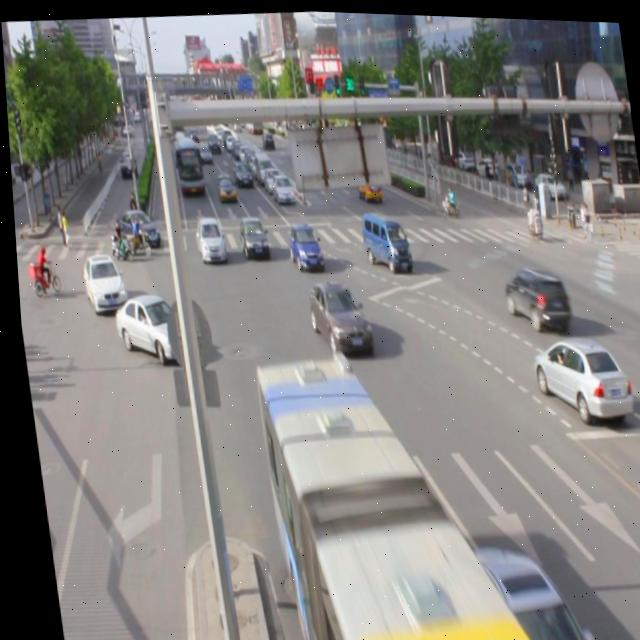car: (461, 532, 580, 640), (524, 324, 628, 416), (106, 287, 188, 362), (301, 274, 368, 353), (495, 256, 567, 326), (283, 216, 320, 266), (233, 210, 267, 256), (191, 212, 223, 258)
truck: (356, 205, 409, 269)
van: (250, 341, 526, 640)
